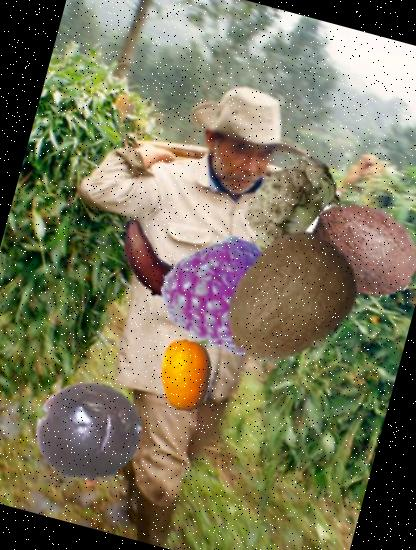Banana: (99, 198, 224, 323)
Cauliflower: (232, 148, 369, 284)
Cocos: (292, 181, 416, 322)
Kiwi: (196, 208, 378, 390)
Kumquats: (142, 331, 230, 418)
Passion: (21, 367, 156, 502)
Raspberry: (152, 220, 300, 368)
